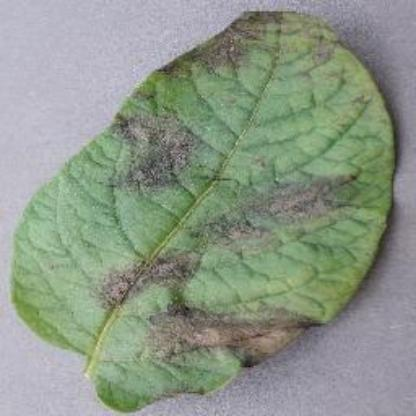Late-Blight: (21, 10, 392, 390)
